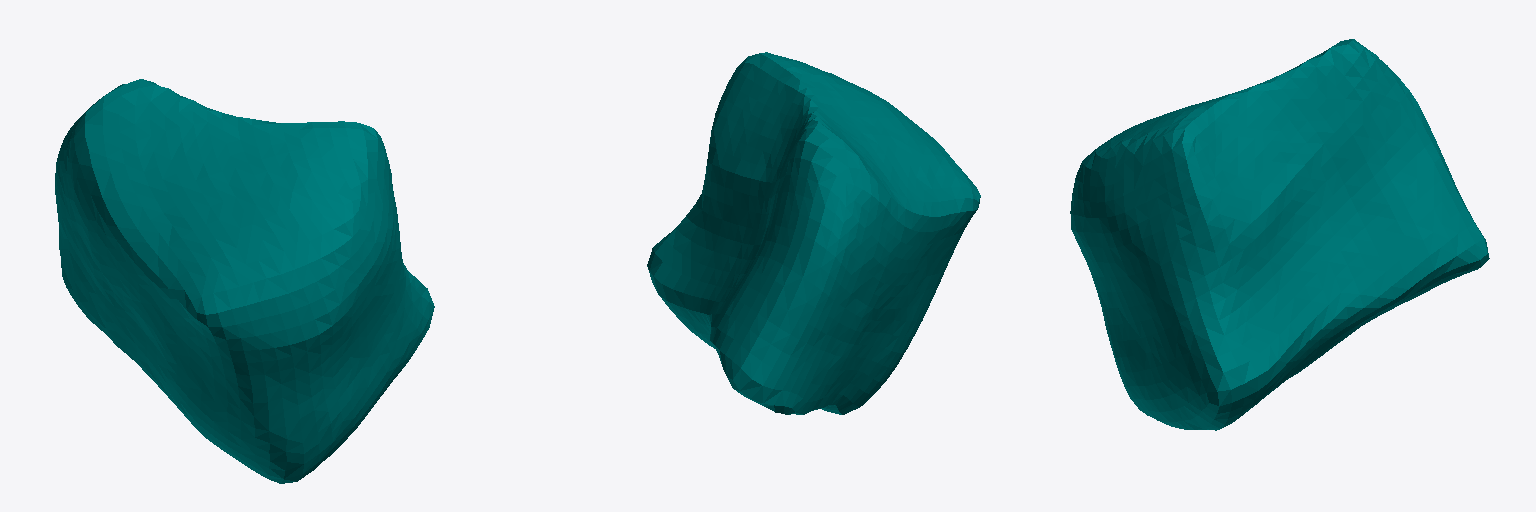
Rendered from Cuniform_Intermediate.obj.
3 views of the same model, side by side, from view 1: azimuth 30°, elevation 25°; view 2: azimuth 150°, elevation 25°; view 3: azimuth 270°, elevation 25° (orthographic).
Visible parts, largest first — view 1: Object_0Cuniform_Intermediate; view 2: Object_0Cuniform_Intermediate; view 3: Object_0Cuniform_Intermediate.
Boxes of the visible parts, x1,y1,x2,y2 form: Object_0Cuniform_Intermediate: [55, 79, 434, 483]; Object_0Cuniform_Intermediate: [647, 52, 980, 414]; Object_0Cuniform_Intermediate: [1070, 39, 1489, 430].
Size of the model in its own units: 22.31 by 24.88 by 27.44.